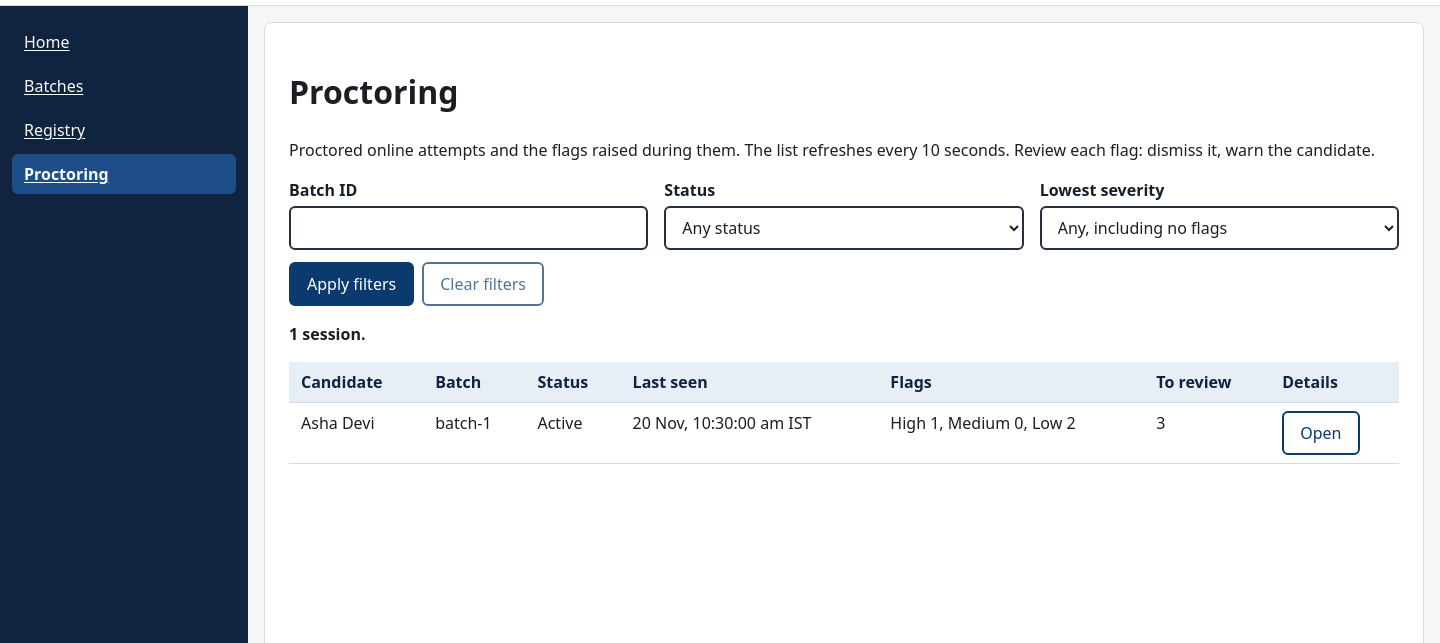
Test case: shows an error with a retry when a flag photo cannot be loaded
Click the button with aria-label "Open session of Asha Devi". click: (1321, 433)
box: [1282,411,1360,455]
(page scrolled)
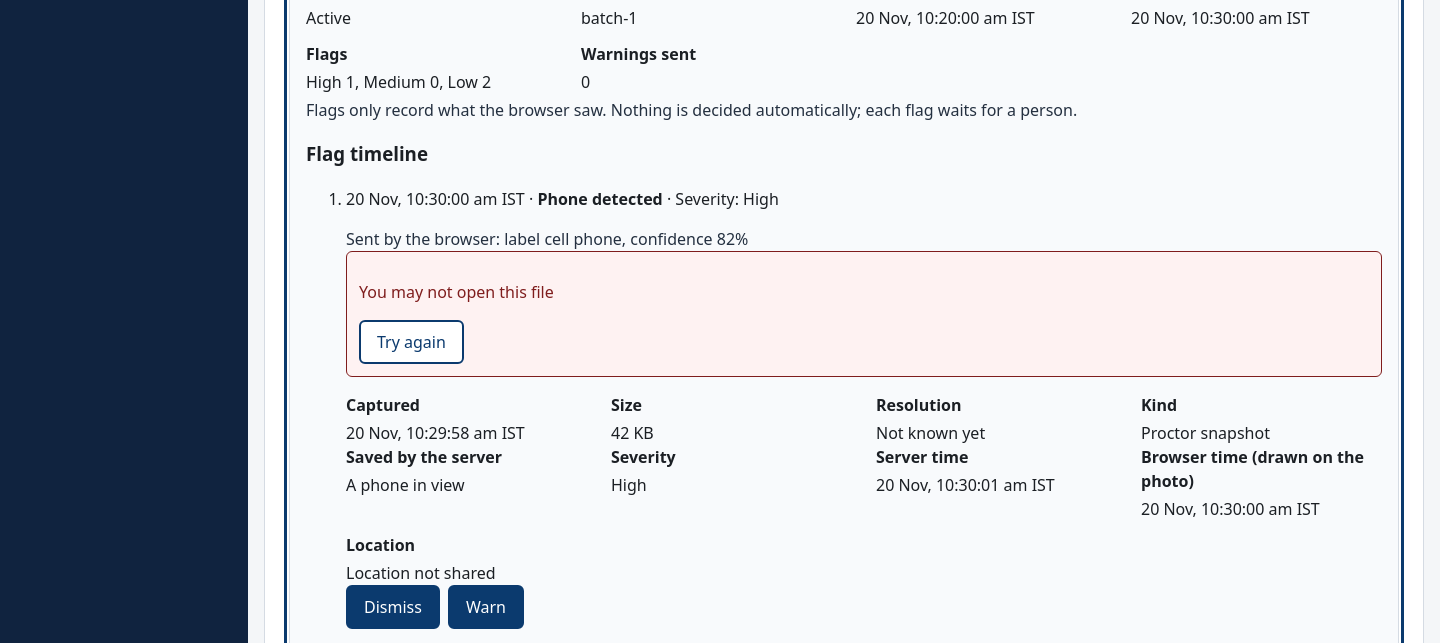
Expected: the message shows "You may not open this file", [359,281,554,303]
Click the button "Try again". click: (411, 342)
box: [359,320,464,364]
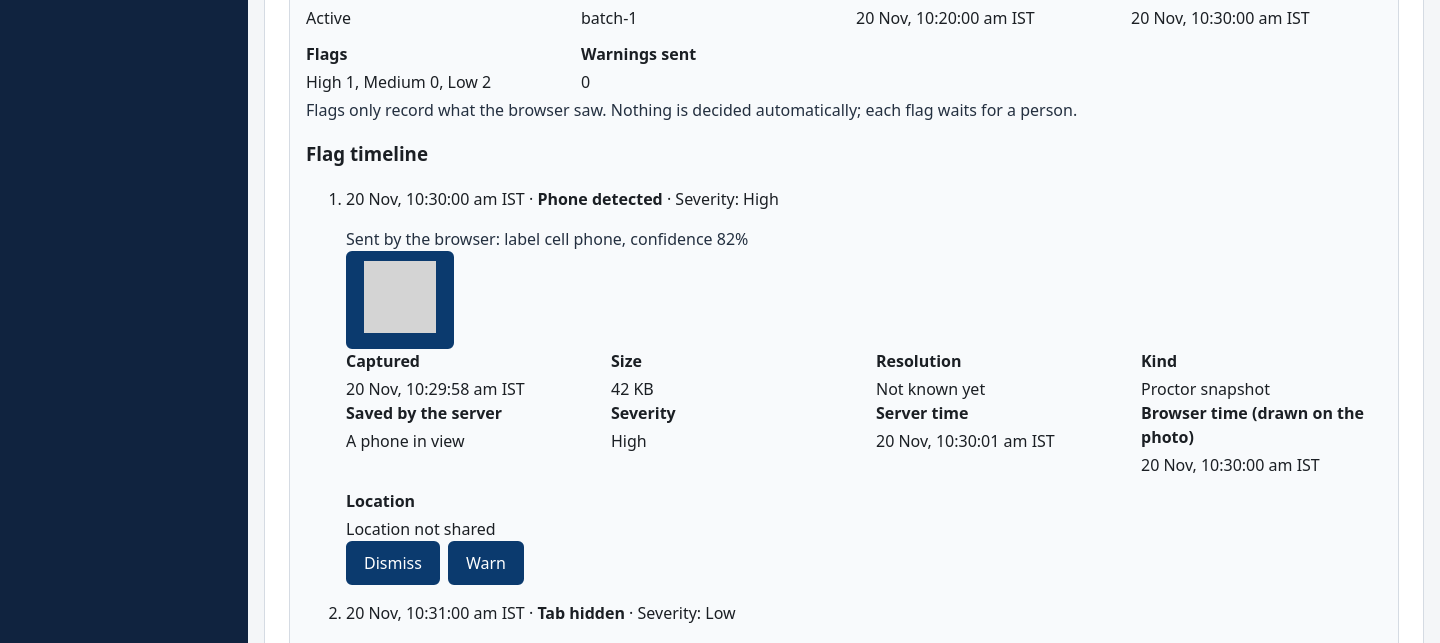
Expected: the button named "Enlarge photo" is shown, [346,251,454,349]
